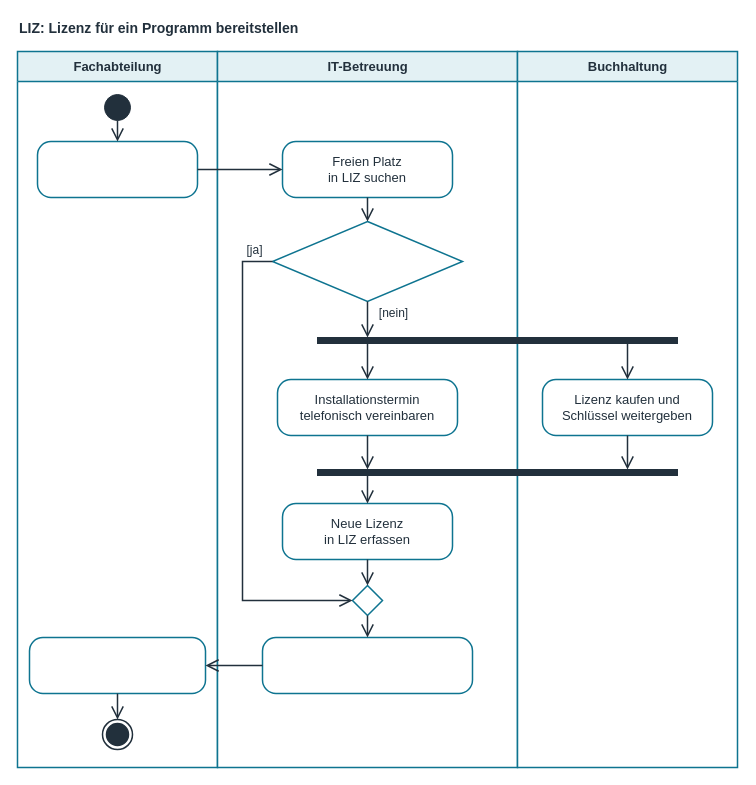
The diagram is 756 pixels wide and 785 high, and some of its shapes have lost their labels. The centre of each missing label's shape, as x and y in pixels:
"Freier Platz vorhanden?" belongs at [367,261].
"Lizenz für ein Programm beantragen" belongs at [117,169].
"Platz in LIZ zuweisen und Programm installieren" belongs at [367,665].
"Übergabe auf dem Laufzettel unterschreiben" belongs at [117,665].
